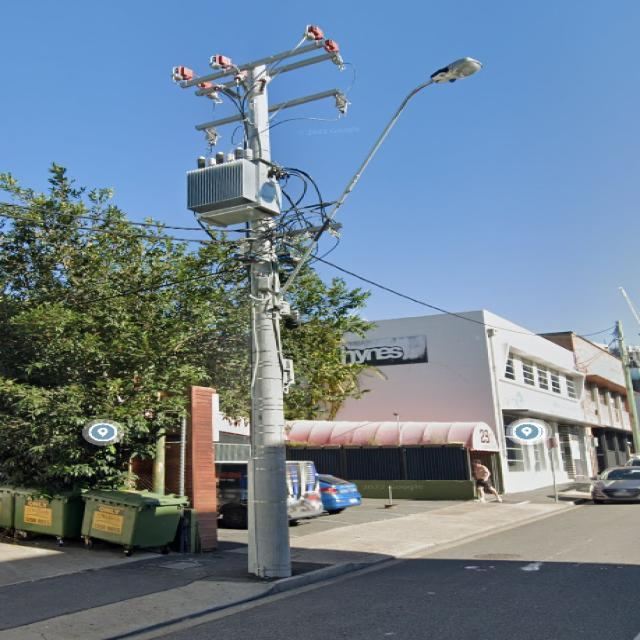HV-transmission: (170, 24, 352, 146)
concrete-pole: (245, 61, 294, 578), (612, 321, 638, 466)
crossarm: (181, 41, 327, 88), (193, 87, 340, 132), (195, 51, 337, 97), (277, 222, 343, 238)
streetlight: (277, 56, 485, 294)
transformer: (184, 144, 286, 226)
unsuitable: (167, 25, 487, 579)
